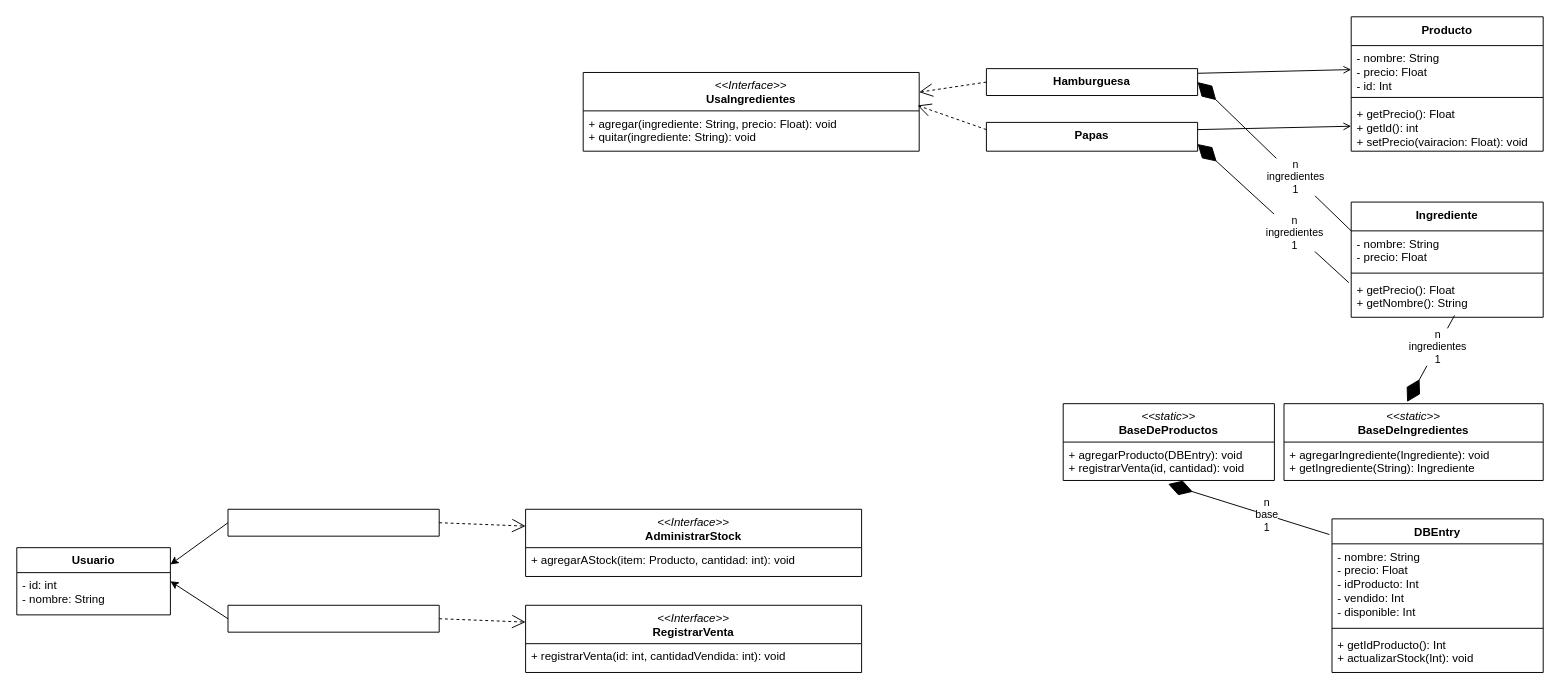
This 1560x692 diagram has some shape labels left out. The centre of each missing label's shape, as x and y in pixels:
"Gerente" goes at (333,522).
"Vendedor" goes at (333,618).
